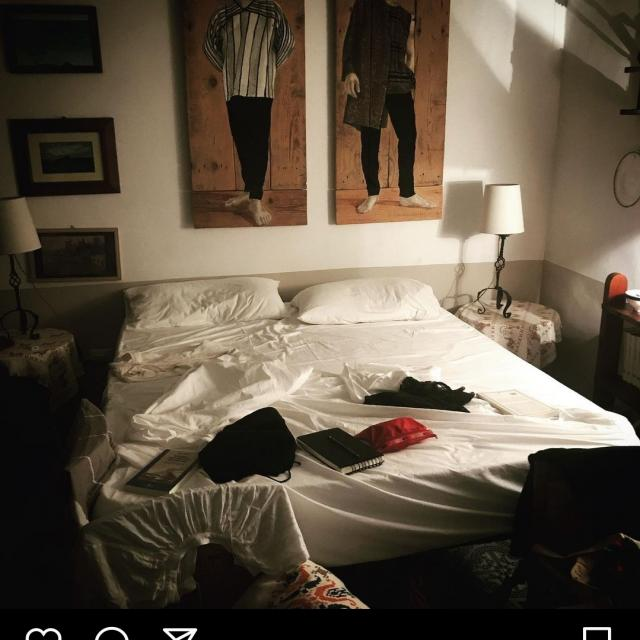bed: (122, 271, 595, 562)
